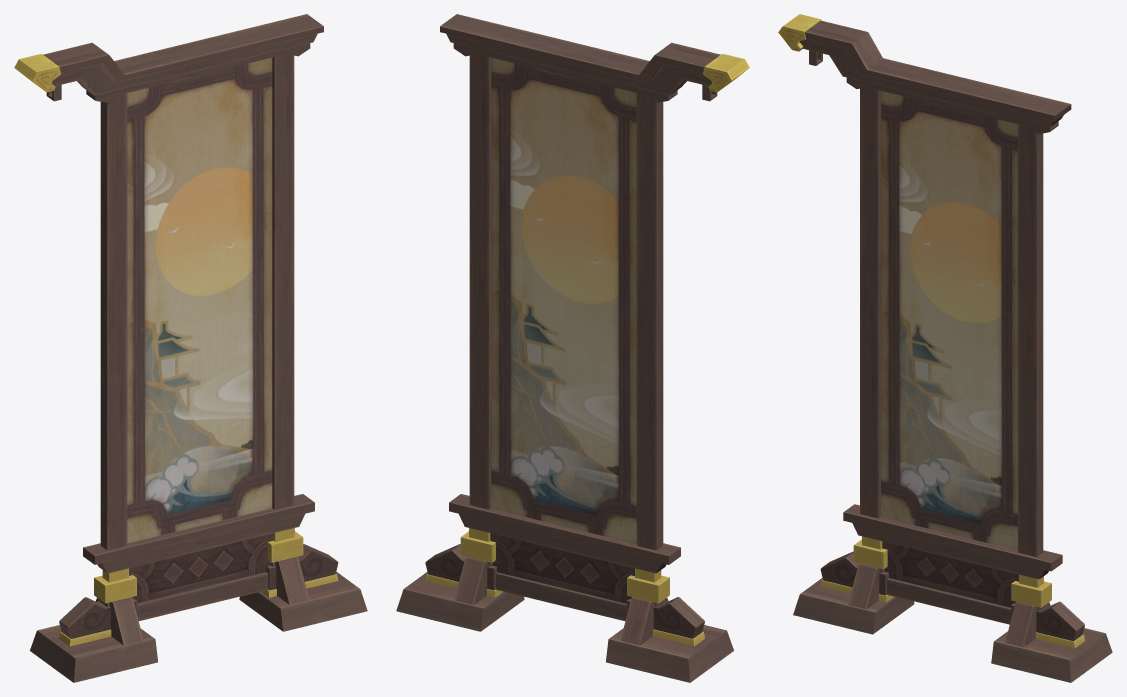
Rendered from Homeworld_Exterior_Ly_Thing_Prop_OperaScreen_02_Vo.fbx.
The picture shows the model from 3 angles, left to right: view 1: azimuth 30°, elevation 25°; view 2: azimuth 150°, elevation 25°; view 3: azimuth 330°, elevation 25°; orthographic projection. The views are drawn at different scales.
Visible parts, largest first — view 1: Homeworld_Exterior_Ly_Thing_Prop_OperaScreen_02_Vo; view 2: Homeworld_Exterior_Ly_Thing_Prop_OperaScreen_02_Vo; view 3: Homeworld_Exterior_Ly_Thing_Prop_OperaScreen_02_Vo.
Part boxes in pixels (x1,y1,x2,y2): Homeworld_Exterior_Ly_Thing_Prop_OperaScreen_02_Vo: (14, 14, 367, 682); Homeworld_Exterior_Ly_Thing_Prop_OperaScreen_02_Vo: (396, 14, 749, 682); Homeworld_Exterior_Ly_Thing_Prop_OperaScreen_02_Vo: (778, 14, 1112, 682).
Size of the model in its own units: 3.15 by 5.66 by 0.7426.
